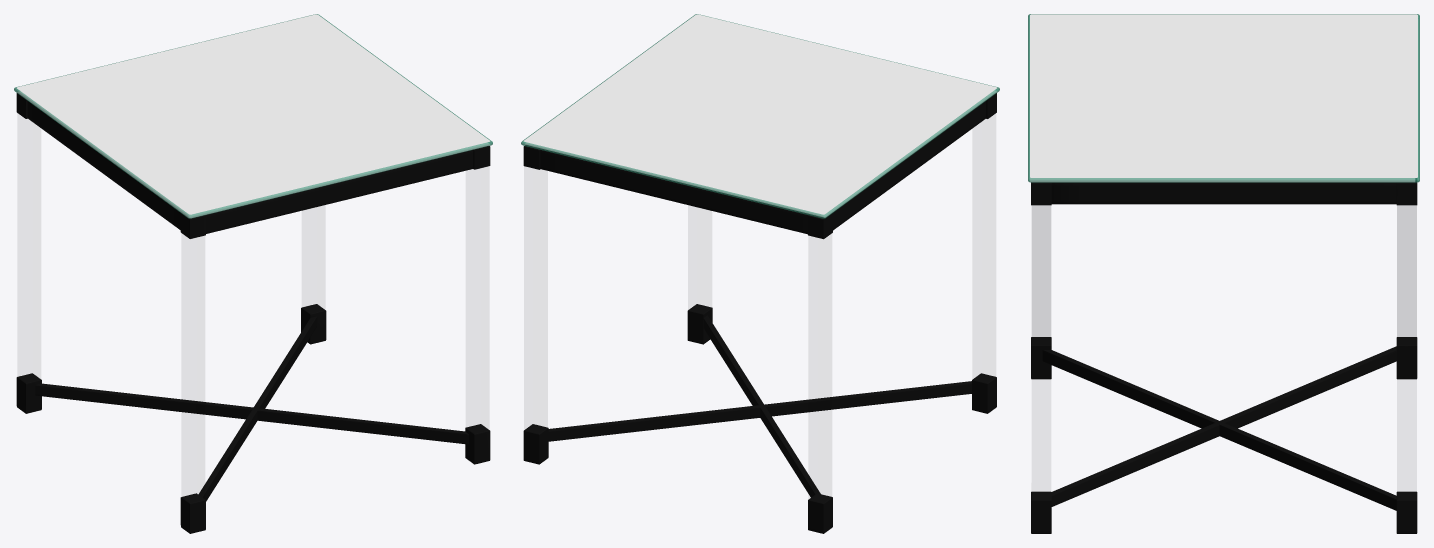
Rendered from OREL1391_v6_LOD2.obj.
3 renders of one model, left to right at view 1: azimuth 30°, elevation 25°; view 2: azimuth 150°, elevation 25°; view 3: azimuth 270°, elevation 25°, orthographic. The views are drawn at different scales.
Visible parts, largest first — view 1: clear_obj_0_100_0_v6, not_clear_obj_0_v6, clear_obj_1_100_0_v6; view 2: clear_obj_0_100_0_v6, not_clear_obj_0_v6, clear_obj_1_100_0_v6; view 3: clear_obj_0_100_0_v6, not_clear_obj_0_v6, clear_obj_2_90_1961_v6, clear_obj_1_100_0_v6.
Boxes of the visible parts, <box> form: clear_obj_0_100_0_v6: <box>17,14,490,217</box>; not_clear_obj_0_v6: <box>16,93,490,533</box>; clear_obj_1_100_0_v6: <box>14,14,492,218</box>; clear_obj_0_100_0_v6: <box>523,14,996,217</box>; not_clear_obj_0_v6: <box>523,93,996,533</box>; clear_obj_1_100_0_v6: <box>521,14,999,218</box>; clear_obj_0_100_0_v6: <box>1030,14,1417,181</box>; not_clear_obj_0_v6: <box>1031,178,1417,533</box>; clear_obj_2_90_1961_v6: <box>1032,206,1416,336</box>; clear_obj_1_100_0_v6: <box>1028,14,1419,182</box>.
Size of what is drawn, in the model's own units: 61.12 by 61.31 by 61.12.
